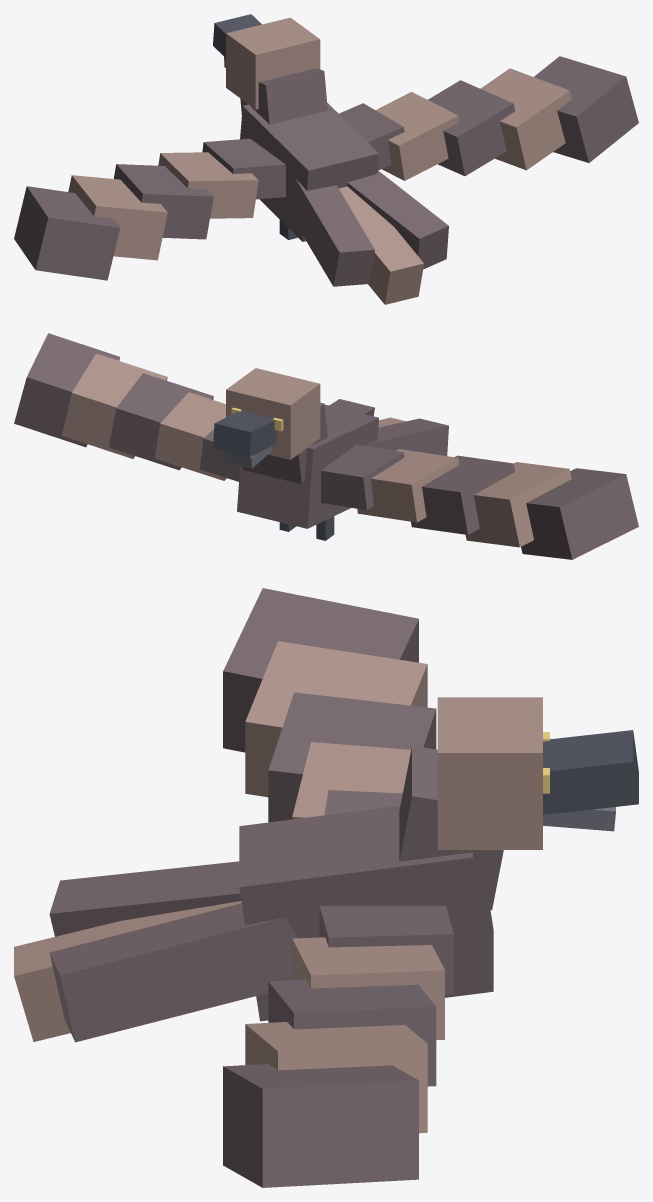
The model's file is raven_crow.glb.
3 views of the same model, one above another, from view 1: azimuth 30°, elevation 25°; view 2: azimuth 150°, elevation 25°; view 3: azimuth 270°, elevation 25° (orthographic). The views are drawn at different scales.
Parts seen in each view (by area): view 1: Moonpost Raven Crow; view 2: Moonpost Raven Crow; view 3: Moonpost Raven Crow.
Boxes of the visible parts, bbox=[...] form: Moonpost Raven Crow: bbox=[14, 14, 638, 304]; Moonpost Raven Crow: bbox=[14, 333, 638, 559]; Moonpost Raven Crow: bbox=[14, 588, 638, 1187].
Bounding box in the file's own units: 7.86 × 2.12 × 3.97.
